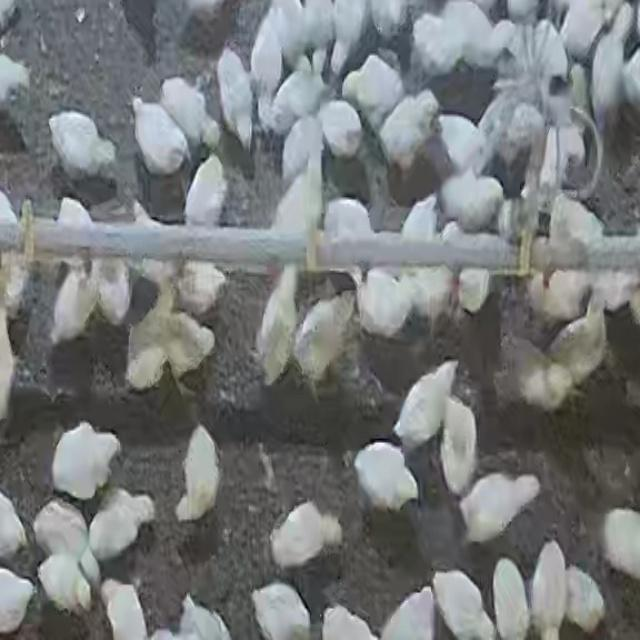chicken: (292, 288, 358, 393), (122, 198, 180, 307), (546, 290, 607, 390), (458, 472, 540, 546), (254, 264, 302, 388), (588, 9, 634, 137), (51, 420, 120, 501), (395, 359, 456, 446), (267, 501, 342, 571), (340, 54, 406, 133), (266, 56, 331, 136), (376, 90, 441, 170), (158, 74, 217, 158), (353, 441, 419, 513), (176, 422, 222, 524), (88, 489, 154, 560), (130, 96, 188, 176), (48, 112, 118, 178), (543, 192, 606, 264), (48, 262, 99, 348), (355, 268, 414, 342), (430, 569, 491, 640), (215, 48, 257, 149), (437, 167, 504, 229), (439, 394, 479, 497), (36, 550, 98, 616), (512, 353, 576, 414), (165, 310, 218, 383), (527, 266, 591, 326), (32, 499, 92, 562), (274, 161, 324, 236), (536, 117, 590, 186), (250, 582, 312, 640), (530, 541, 566, 640), (248, 10, 287, 100), (280, 112, 326, 188), (184, 152, 229, 228), (557, 0, 615, 58), (491, 555, 530, 640), (326, 0, 368, 73), (377, 589, 437, 640), (600, 505, 639, 583), (315, 98, 364, 160), (445, 0, 489, 69), (176, 260, 228, 318), (562, 564, 605, 634), (290, 0, 336, 65), (409, 266, 454, 332), (410, 12, 456, 76), (102, 584, 152, 640), (94, 257, 132, 327), (178, 595, 235, 640), (322, 198, 375, 246), (125, 340, 170, 394), (532, 20, 571, 82), (440, 115, 482, 172), (590, 267, 638, 315), (0, 565, 35, 630), (320, 604, 381, 640), (0, 488, 30, 560), (2, 247, 31, 316), (400, 195, 440, 245), (1, 52, 32, 116), (484, 18, 520, 68), (458, 265, 494, 314), (54, 196, 97, 235), (369, 0, 409, 39)
